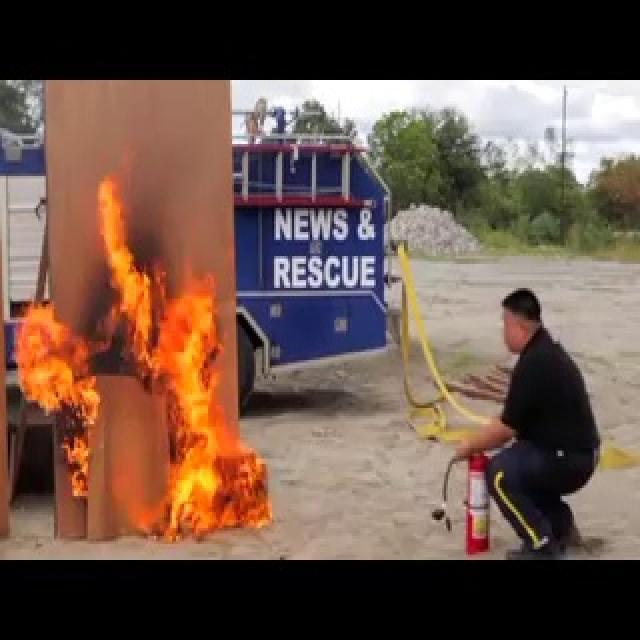fire: (10, 110, 280, 540)
